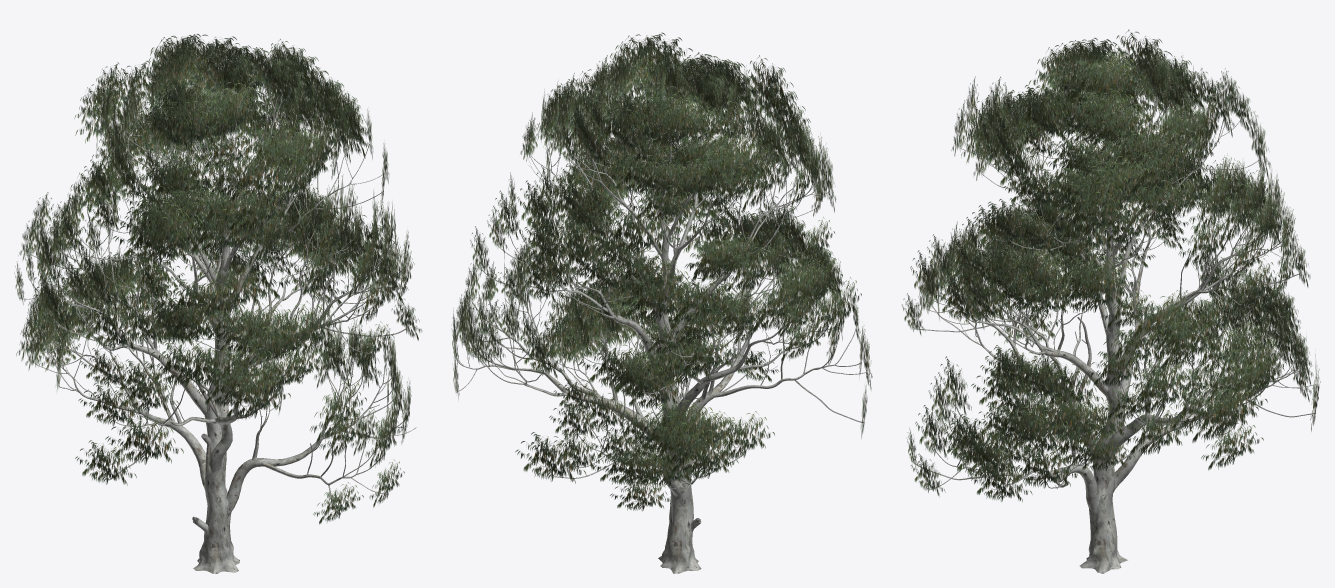
The model's file is mature.glb.
3 views of the same model, side by side, from view 1: azimuth 30°, elevation 25°; view 2: azimuth 150°, elevation 25°; view 3: azimuth 270°, elevation 25° (orthographic).
Visible parts, largest first — view 1: Eucalyptus_camaldulensis_RT; view 2: Eucalyptus_camaldulensis_RT; view 3: Eucalyptus_camaldulensis_RT.
Part boxes in pixels (left/top/right/bottom): Eucalyptus_camaldulensis_RT: left=14, top=34, right=422, bottom=573; Eucalyptus_camaldulensis_RT: left=451, top=32, right=872, bottom=573; Eucalyptus_camaldulensis_RT: left=901, top=29, right=1320, bottom=573.
Size of the model in its own units: 0.7411 by 1 by 0.7198.
6 materials, 6 textured.
